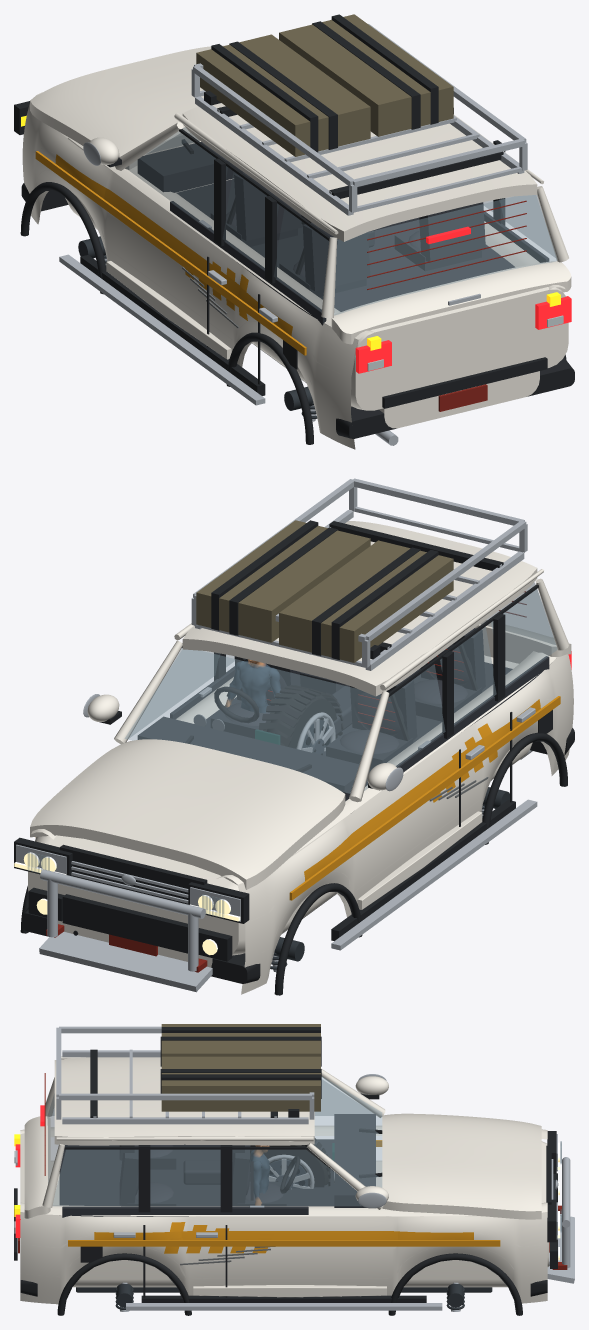
The model's file is druk-ranger.glb.
3 views of the same model, one above another, from view 1: azimuth 30°, elevation 25°; view 2: azimuth 150°, elevation 25°; view 3: azimuth 270°, elevation 25° (orthographic). The views are drawn at different scales.
Parts seen in each view (by area): view 1: body_high, body_low, cosmetic_carrier (×2), cosmetic_basket, cosmetic_trail (×2), cosmetic_stripe (×2), cosmetic_summit; view 2: body_high, body_low, cosmetic_carrier (×2), cosmetic_trail (×2), cosmetic_basket, wheel_high, cosmetic_stripe (×2), cosmetic_summit; view 3: body_high, body_low, cosmetic_carrier (×2), cosmetic_trail (×2), cosmetic_basket, cosmetic_stripe (×2), cosmetic_summit, wheel_high, wheel_low, rim_touring, rim_steel, damage_group.
Part boxes in pixels (box(x1,y1,x2,y2)): body_high: box(15, 45, 574, 449); body_low: box(14, 96, 571, 447); cosmetic_carrier (×2): box(196, 14, 453, 156); cosmetic_basket: box(191, 24, 527, 212); cosmetic_trail (×2): box(59, 254, 265, 405); cosmetic_stripe (×2): box(55, 154, 292, 336); cosmetic_summit: box(183, 248, 248, 320); body_high: box(14, 510, 574, 995); body_low: box(14, 510, 573, 992); cosmetic_carrier (×2): box(196, 520, 453, 662); cosmetic_trail (×2): box(39, 799, 537, 992); cosmetic_basket: box(191, 478, 527, 667); wheel_high: box(259, 685, 343, 748); cosmetic_stripe (×2): box(304, 699, 540, 880); cosmetic_summit: box(426, 723, 497, 802); body_high: box(14, 1050, 566, 1315); body_low: box(14, 1049, 567, 1314); cosmetic_carrier (×2): box(160, 1024, 321, 1111); cosmetic_trail (×2): box(126, 1157, 574, 1310); cosmetic_basket: box(56, 1026, 314, 1119); cosmetic_stripe (×2): box(94, 1231, 473, 1239); cosmetic_summit: box(164, 1222, 273, 1253); wheel_high: box(249, 1138, 330, 1186); wheel_low: box(250, 1145, 325, 1187); rim_touring: box(268, 1154, 314, 1189); rim_steel: box(269, 1156, 313, 1188); damage_group: box(180, 1246, 275, 1265).
Size of what is drawn, in the model's own units: 2.31 by 2.03 by 4.58.
